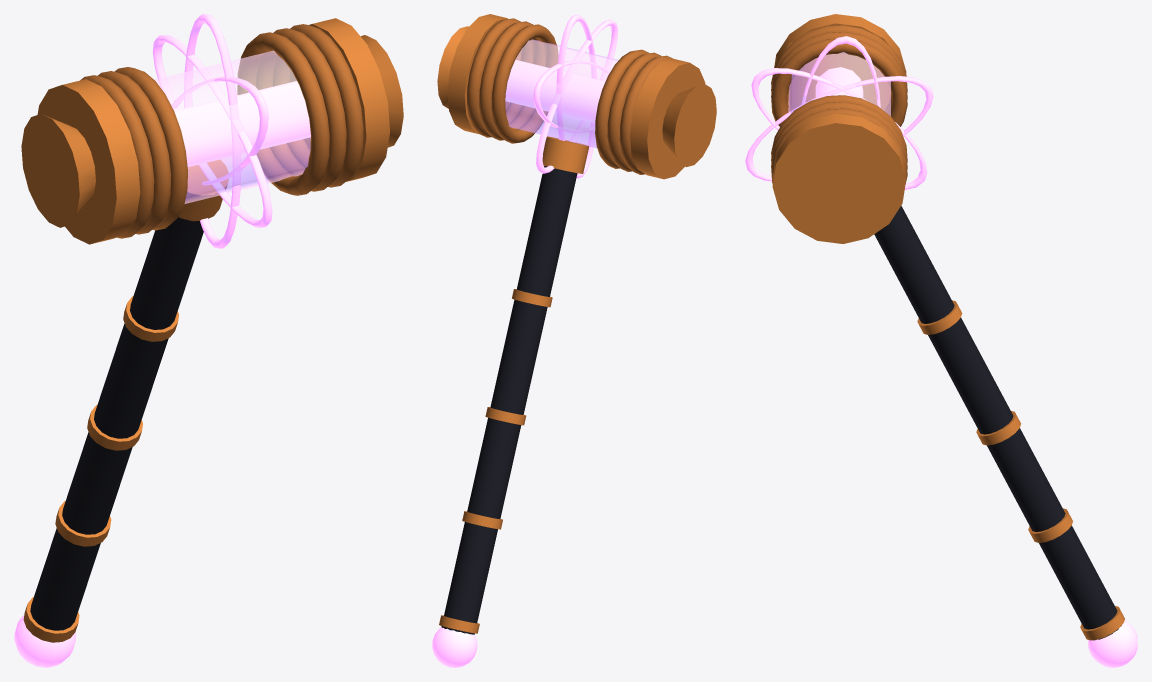
File: hand_eqgw3.glb
The picture shows the model from 3 angles, left to right: view 1: azimuth 30°, elevation 25°; view 2: azimuth 150°, elevation 25°; view 3: azimuth 270°, elevation 25°; orthographic projection. The views are drawn at different scales.
Size of the model in its own units: 1.87 by 4.25 by 2.4.
